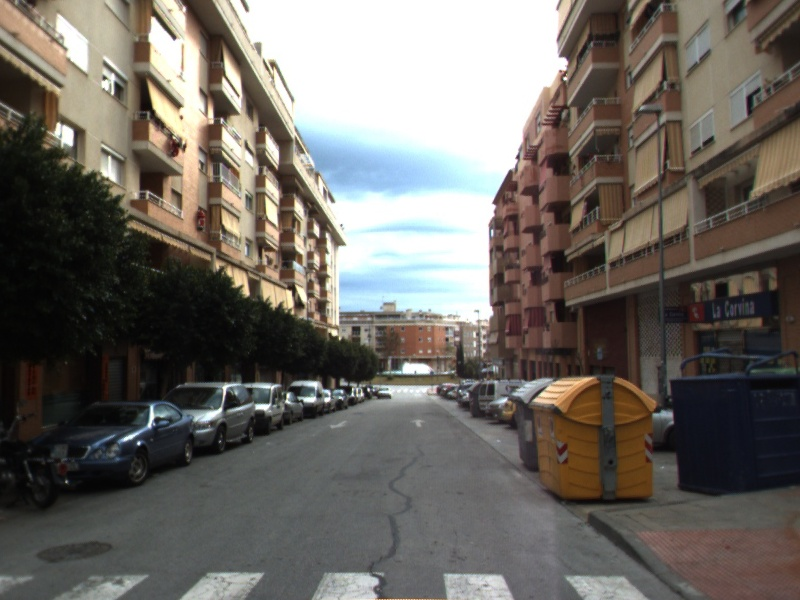STRAIGHT: (408, 416, 427, 430)
